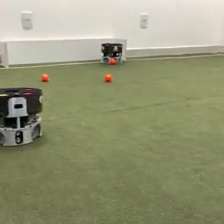ball: (39, 70, 50, 82), (103, 73, 112, 82), (108, 57, 115, 64)
goal: (1, 38, 129, 69)
robot: (1, 84, 45, 146), (99, 41, 124, 65)
